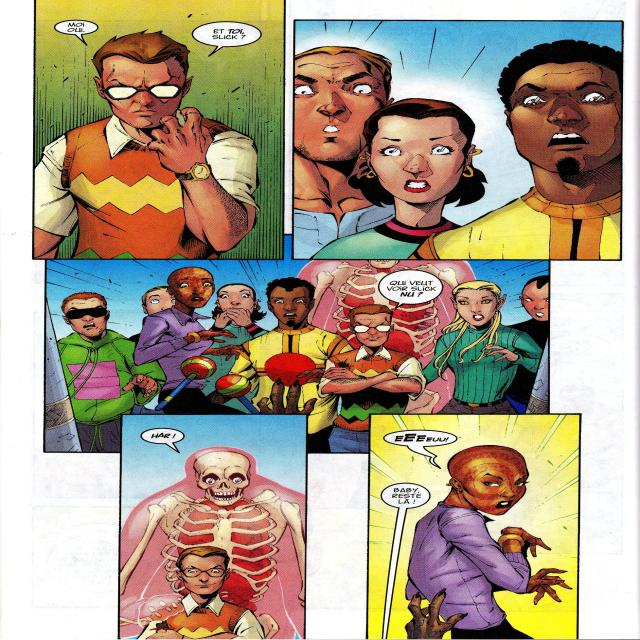comic_panel: (43, 234, 555, 456), (291, 19, 625, 262), (31, 0, 287, 261), (366, 412, 582, 640), (116, 413, 308, 639)
